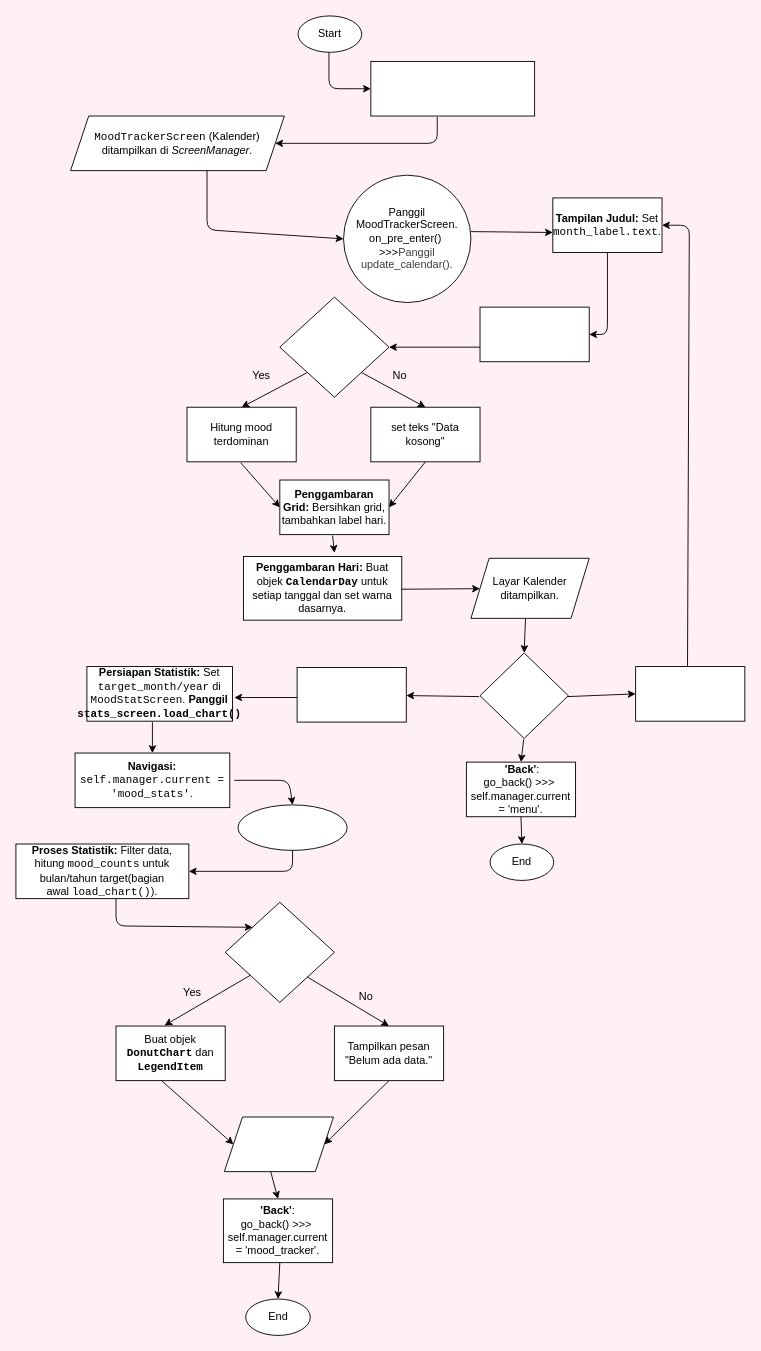
This 761x1351 diagram has some shape labels left out. The shapes that lost their labels are listed below. From the top down, each one's centre as x and y in pixels, then its label:
At point 452,88: "Muat desain Builder.load_file ('screen/mood_tracker.kv') dieksekusi.".
At point 334,346: "Apakah ada data mood yang terkumpul bulan ini?".
At point 534,334: "Pengambilan Data: Loop user_store , filter entri curhat_ sesuai bulan/tahun.".
At point 351,694: "'Lihat Grafik' : Panggil go_to_stats() .".
At point 523,695: "Tombol apa yang ditekan?".
At point 690,693: "'Prev/Next Month' : Perbarui bulan/tahun".
At point 292,827: "Start, Masuk ke MoodStatScreen .".
At point 279,951: "Apakah ada data untuk digambar?".
At point 278,1144: "Layar Statistik ditampilkan.".
